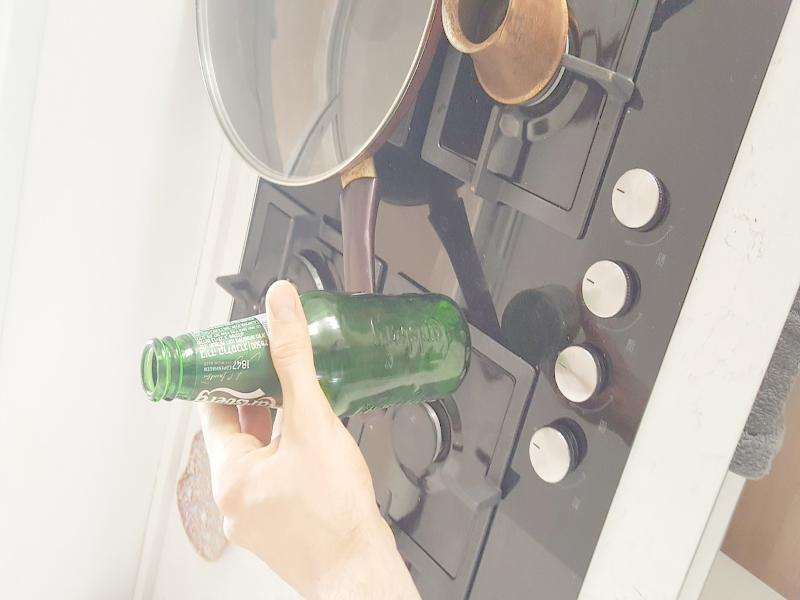Beer: (144, 293, 469, 403)
